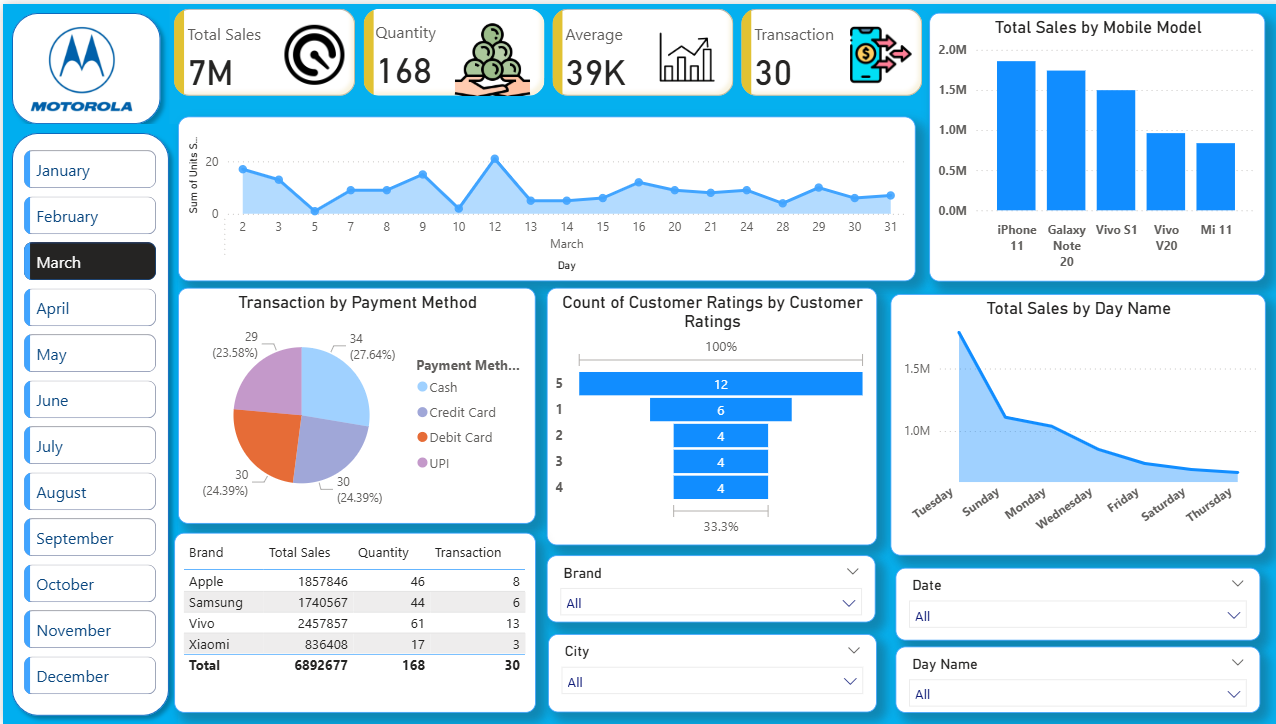

This screenshot's page, from the dashboard's own definition file:
{"tool":"powerbi","page":{"name":"Page 1","canvas":[1280,720],"ordinal":0},"visuals":[{"type":"shape","box":[0,0,166.5,129.1],"z":0},{"type":"image","box":[15.7,16.9,124.3,95.3],"z":1000},{"type":"shape","box":[0,119.4,174.9,600.8],"z":2000},{"type":"advancedSlicerVisual","fields":{"Values":["mobile_data.Date.Variation.Date Hierarchy.Month"]},"box":[15.7,141.2,142.4,555],"z":3000},{"type":"cardVisual","fields":{"Data":["mobile_data.Total Sales","mobile_data.Total Quantity","mobile_data.Transaction","mobile_data.Transaction1"]},"box":[166.5,0,760.1,97.7],"z":4000},{"type":"lineChart","fields":{"Y":["Sum(mobile_data.Units Sold)"],"Category":["mobile_data.Date.Variation.Date Hierarchy.Month","mobile_data.Date.Variation.Date Hierarchy.Day"]},"box":[175,112.5,737.5,165],"z":5000},{"type":"clusteredColumnChart","fields":{"Category":["mobile_data.Mobile Model"],"Y":["mobile_data.Total Sales"]},"box":[926.2,8.8,336.2,268.8],"z":6000},{"type":"pieChart","fields":{"Category":["mobile_data.Payment Method"],"Y":["mobile_data.Transaction"]},"box":[175,283.8,357.5,236.2],"z":7000},{"type":"funnel","fields":{"Category":["mobile_data.Customer Ratings"],"Y":["CountNonNull(mobile_data.Customer Ratings)"]},"box":[543.8,283.8,330,257.5],"z":8000},{"type":"areaChart","fields":{"Category":["mobile_data.Day Name"],"Y":["mobile_data.Total Sales"]},"box":[887.5,290,375,261.2],"z":9000},{"type":"tableEx","fields":{"Values":["mobile_data.Brand","mobile_data.Total Sales","mobile_data.Quantity","mobile_data.Transaction"]},"box":[171.2,528.8,361.2,180],"z":10000},{"type":"slicer","fields":{"Values":["mobile_data.Brand"]},"box":[543.8,551.2,328.8,67.5],"z":11000},{"type":"slicer","fields":{"Values":["mobile_data.Date"]},"box":[892.5,563.8,365,72.5],"z":12000},{"type":"slicer","fields":{"Values":["mobile_data.City"]},"box":[545,630,328.8,78.8],"z":13000},{"type":"slicer","fields":{"Values":["mobile_data.Day Name"]},"box":[892.5,642.5,365,66.2],"z":14000}]}

Visuals, with their boxes in screenshot pixels (x1, y1, x2, y2), scaled from the page's 1280x720 canvas onto the 1276x724 screenshot:
shape: locate(0, 0, 166, 130)
image: locate(16, 17, 140, 113)
shape: locate(0, 120, 174, 723)
advancedSlicerVisual - mobile_data.Date.Variation.Date Hierarchy.Month: locate(16, 142, 158, 700)
cardVisual - mobile_data.Total Sales x mobile_data.Total Quantity: locate(166, 0, 924, 98)
lineChart - Sum(mobile_data.Units Sold) x mobile_data.Date.Variation.Date Hierarchy.Month: locate(174, 113, 910, 279)
clusteredColumnChart - mobile_data.Mobile Model x mobile_data.Total Sales: locate(923, 9, 1258, 279)
pieChart - mobile_data.Payment Method x mobile_data.Transaction: locate(174, 285, 531, 523)
funnel - mobile_data.Customer Ratings x CountNonNull(mobile_data.Customer Ratings): locate(542, 285, 871, 544)
areaChart - mobile_data.Day Name x mobile_data.Total Sales: locate(885, 292, 1259, 554)
tableEx - mobile_data.Brand x mobile_data.Total Sales: locate(171, 532, 531, 713)
slicer - mobile_data.Brand: locate(542, 554, 870, 622)
slicer - mobile_data.Date: locate(890, 567, 1254, 640)
slicer - mobile_data.City: locate(543, 634, 871, 713)
slicer - mobile_data.Day Name: locate(890, 646, 1254, 713)
